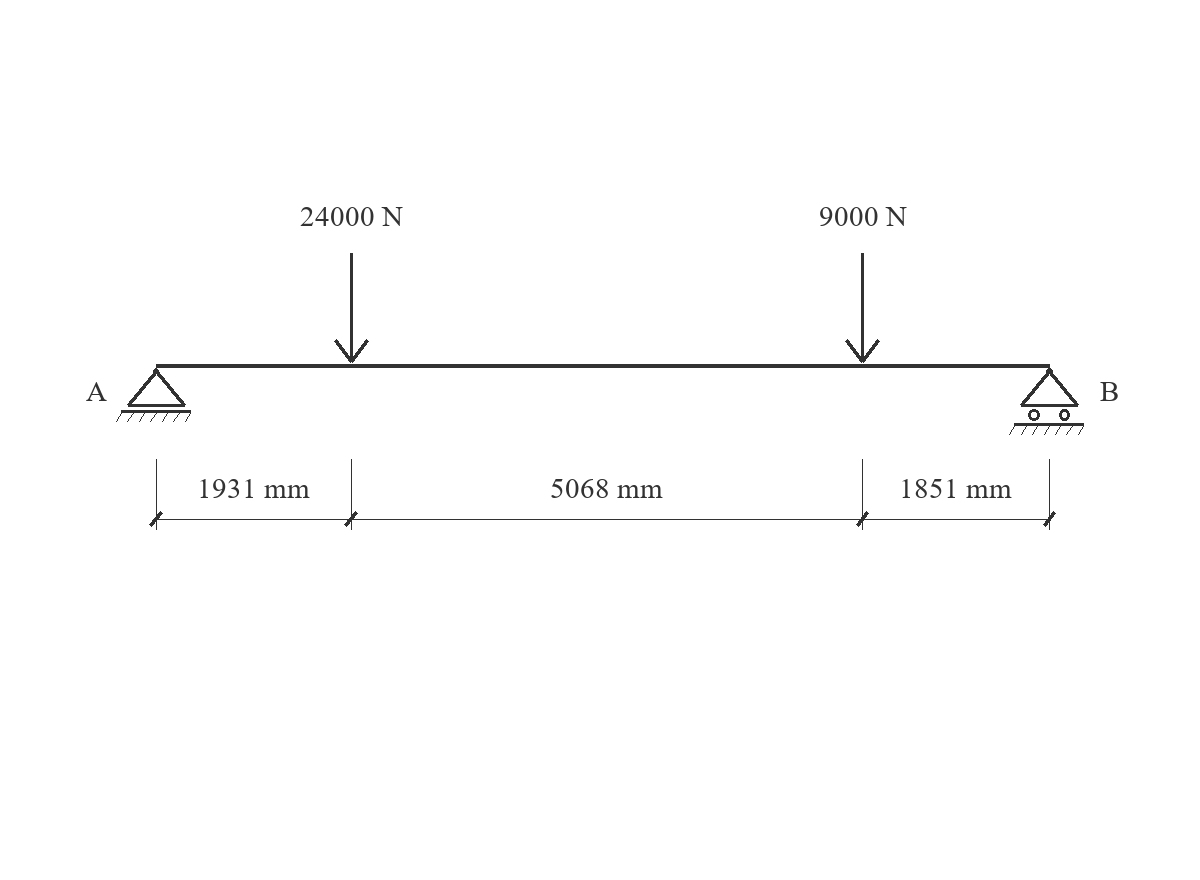pin_support: (116, 368, 191, 422)
point_load: (334, 253, 369, 363), (845, 253, 880, 363)
roller_support: (1009, 368, 1084, 435)
